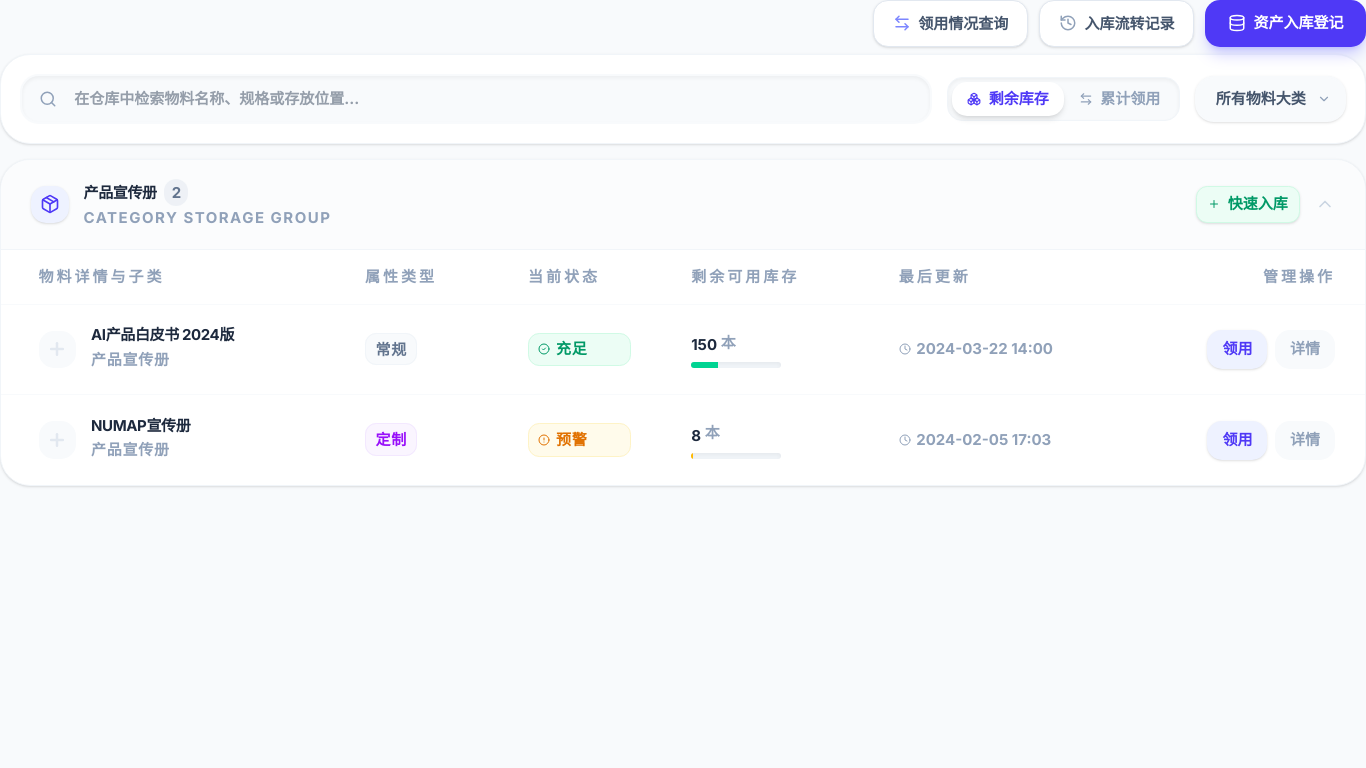
Test: 物料管理页面交互测试 › 顶部操作按钮交互 › 点击领用情况查询应打开弹窗
Step 1. Click the button "领用情况查询" → [950, 23], box [873, 0, 1028, 46]
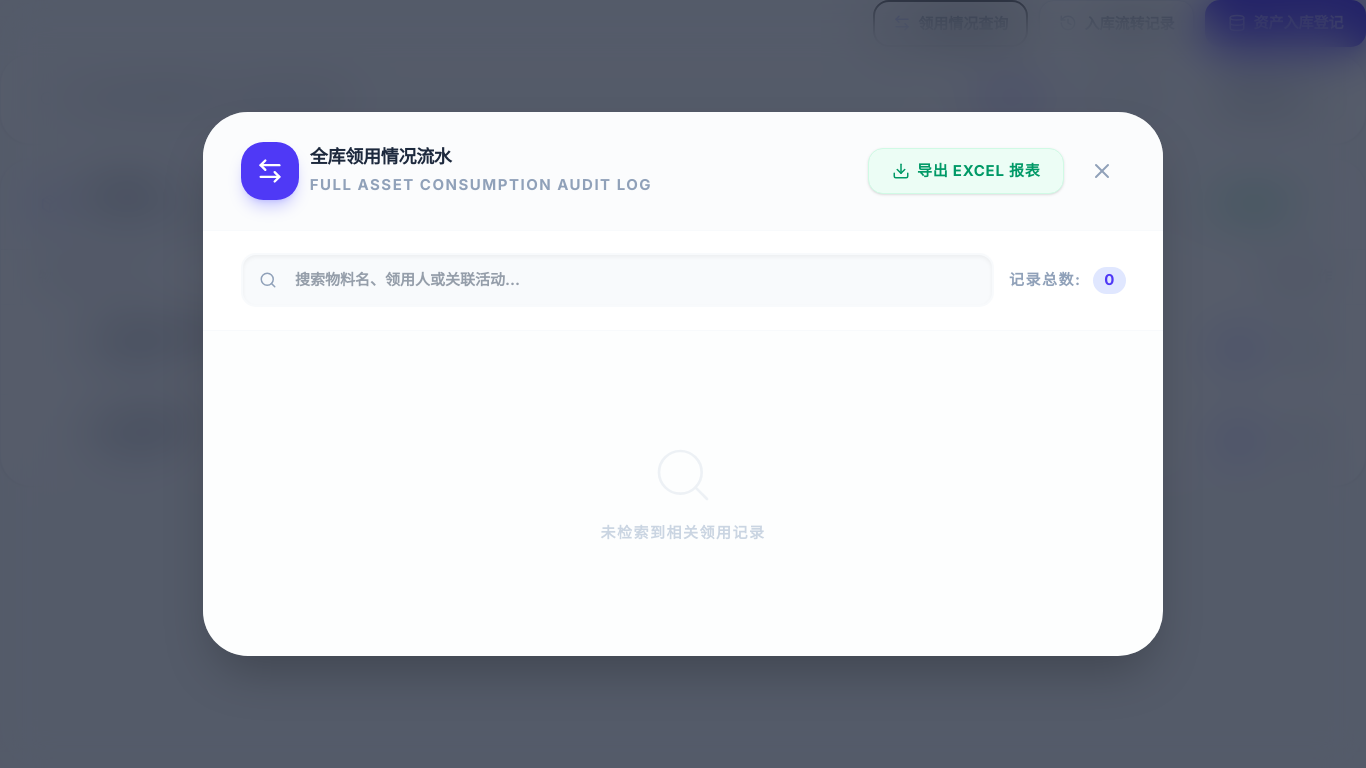
Now the heading "全库领用情况流水" is shown, box [310, 146, 452, 167]
